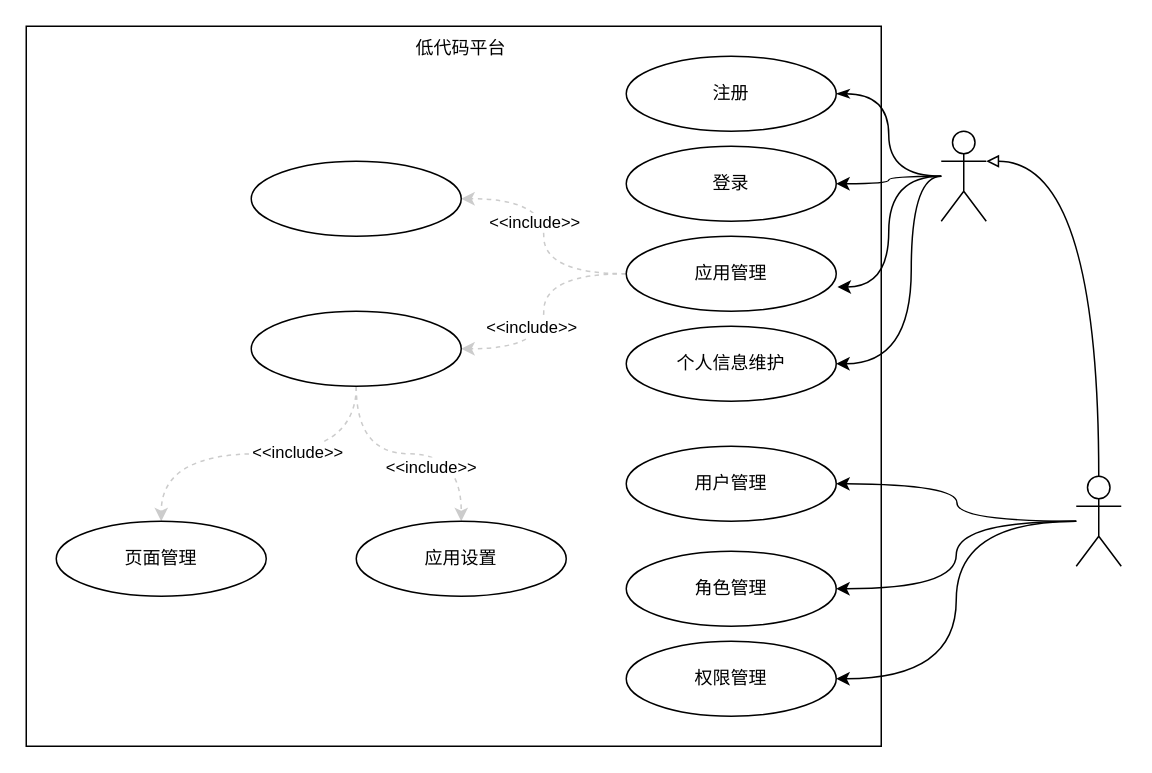
The diagram is 1152 pixels wide and 773 high, and some of its shapes have lost their labels. Each missing label, with the centre of its shape:
用户: (x=963, y=175)
管理员: (x=1098, y=520)
编辑应用: (x=355, y=348)
访问应用: (x=355, y=198)
